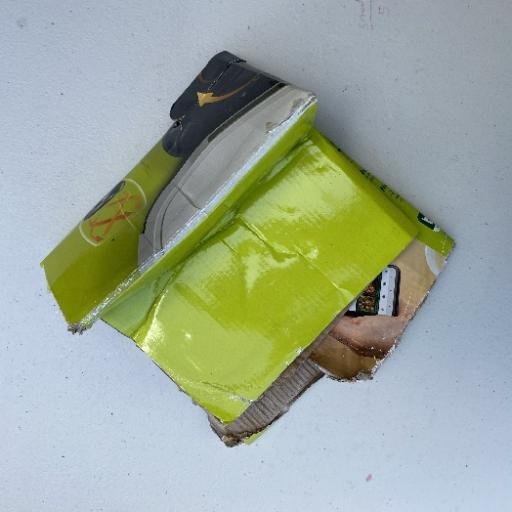Cardboard: (39, 49, 456, 447)
